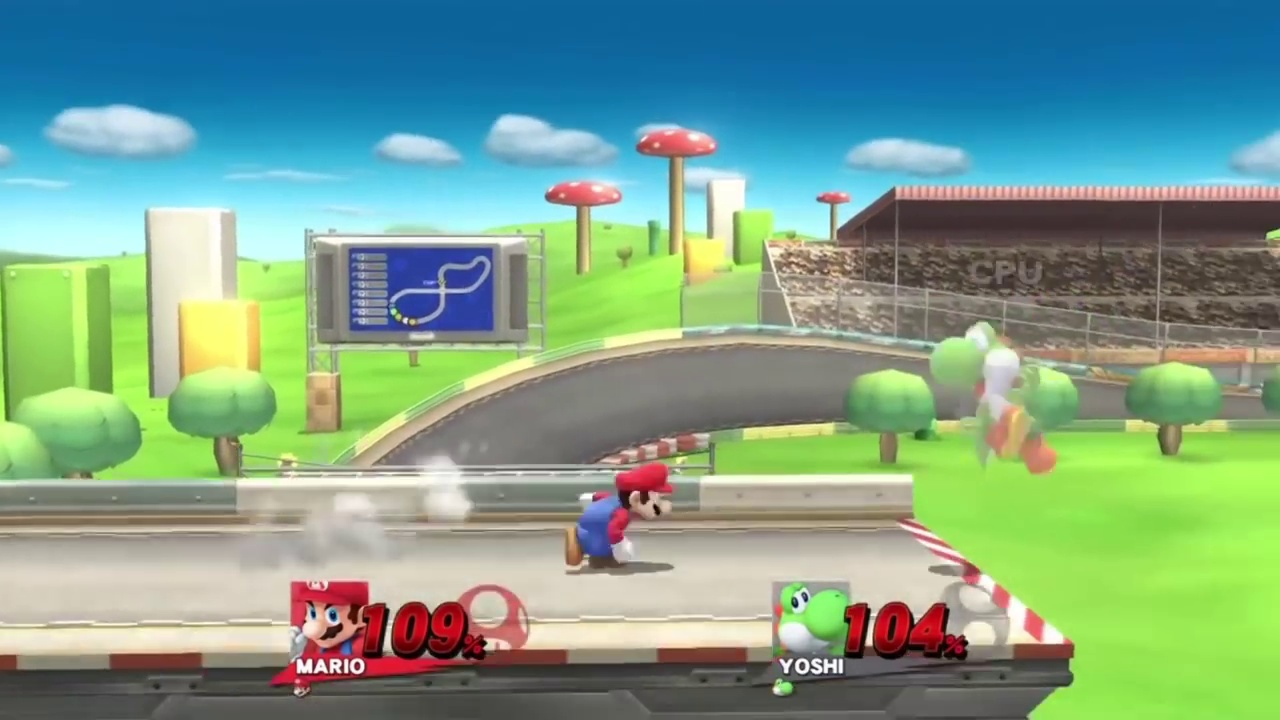Mario: (566, 465, 675, 573)
